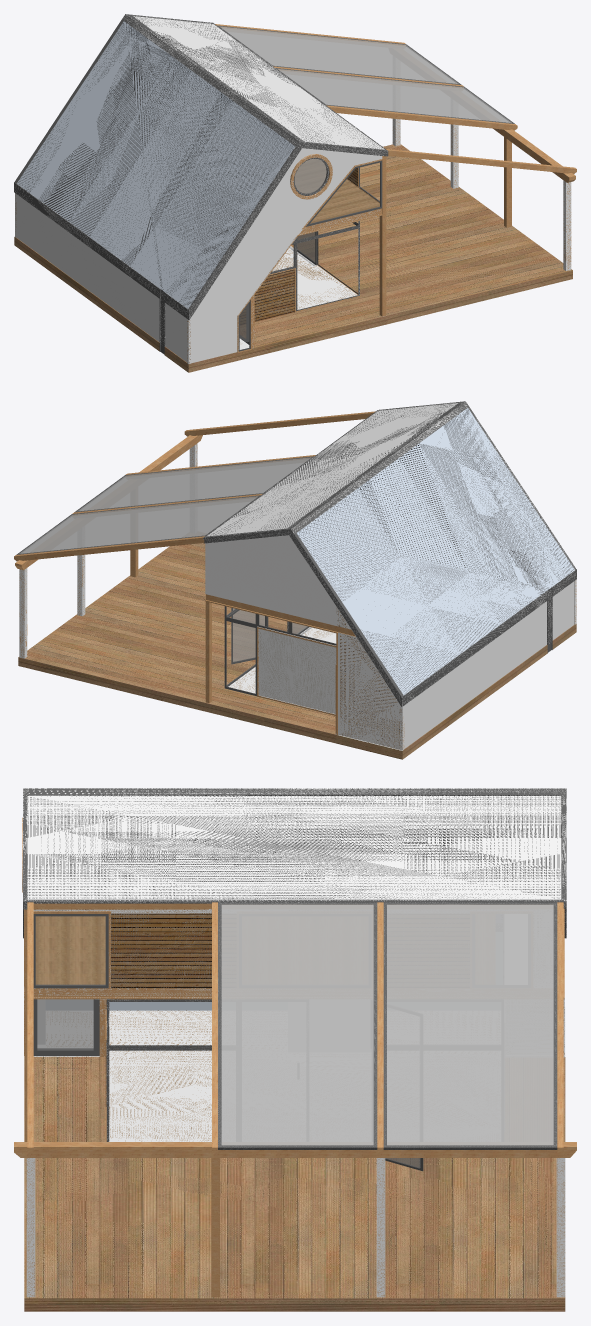
The model's file is collider test xx.glb.
The picture shows the model from 3 angles, top to bottom: view 1: azimuth 30°, elevation 25°; view 2: azimuth 150°, elevation 25°; view 3: azimuth 270°, elevation 25°; orthographic projection. The views are drawn at different scales.
Parts seen in each view (by area): view 1: SketchUp.104, SketchUp.145, SketchUp.152, SketchUp.128, SketchUp.103, SketchUp, SketchUp.114, SketchUp.150, SketchUp.148, SketchUp.041, SketchUp.027, SketchUp.141 (+16 smaller); view 2: SketchUp.104, SketchUp.145, SketchUp.152, SketchUp.103, SketchUp.020, SketchUp, SketchUp.114, SketchUp.150, SketchUp.148, SketchUp.113, SketchUp.106, SketchUp.041 (+16 smaller); view 3: SketchUp.145, SketchUp.152, SketchUp.103, SketchUp.150, SketchUp.148, SketchUp.017, SketchUp.141, SketchUp, SketchUp.044, SketchUp.041, SketchUp.093, SketchUp.027 (+14 smaller).
Part boxes in pixels (bbox=[...]): SketchUp.104: bbox=[16, 21, 295, 308]; SketchUp.145: bbox=[240, 144, 572, 347]; SketchUp.152: bbox=[219, 26, 511, 122]; SketchUp.128: bbox=[191, 148, 382, 363]; SketchUp.103: bbox=[133, 16, 384, 149]; SketchUp: bbox=[14, 14, 388, 354]; SketchUp.114: bbox=[16, 194, 159, 341]; SketchUp.150: bbox=[224, 29, 454, 82]; SketchUp.148: bbox=[281, 71, 507, 121]; SketchUp.041: bbox=[164, 270, 572, 372]; SketchUp.027: bbox=[297, 105, 517, 316]; SketchUp.141: bbox=[392, 118, 575, 271]; SketchUp.104: bbox=[297, 408, 574, 695]; SketchUp.145: bbox=[18, 543, 335, 734]; SketchUp.152: bbox=[19, 457, 311, 553]; SketchUp.103: bbox=[207, 403, 457, 536]; SketchUp.020: bbox=[205, 535, 336, 625]; SketchUp: bbox=[203, 401, 576, 706]; SketchUp.114: bbox=[404, 601, 546, 748]; SketchUp.150: bbox=[23, 498, 254, 552]; SketchUp.148: bbox=[81, 459, 308, 510]; SketchUp.113: bbox=[338, 632, 402, 750]; SketchUp.106: bbox=[259, 629, 336, 713]; SketchUp.041: bbox=[18, 624, 576, 743]; SketchUp.145: bbox=[24, 1057, 565, 1298]; SketchUp.152: bbox=[221, 904, 553, 1145]; SketchUp.103: bbox=[27, 795, 561, 899]; SketchUp.150: bbox=[387, 905, 552, 1144]; SketchUp.148: bbox=[222, 905, 372, 1144]; SketchUp.017: bbox=[46, 1010, 211, 1141]; SketchUp.141: bbox=[14, 1142, 576, 1297]; SketchUp: bbox=[23, 788, 566, 938]; SketchUp.044: bbox=[111, 913, 211, 988]; SketchUp.041: bbox=[24, 1055, 565, 1311]; SketchUp.093: bbox=[35, 916, 105, 984]; SketchUp.027: bbox=[24, 902, 217, 1152].
Size of what is drawn, in the model's own units: 8.94 by 4.47 by 7.21.
16 materials, 10 textured.
